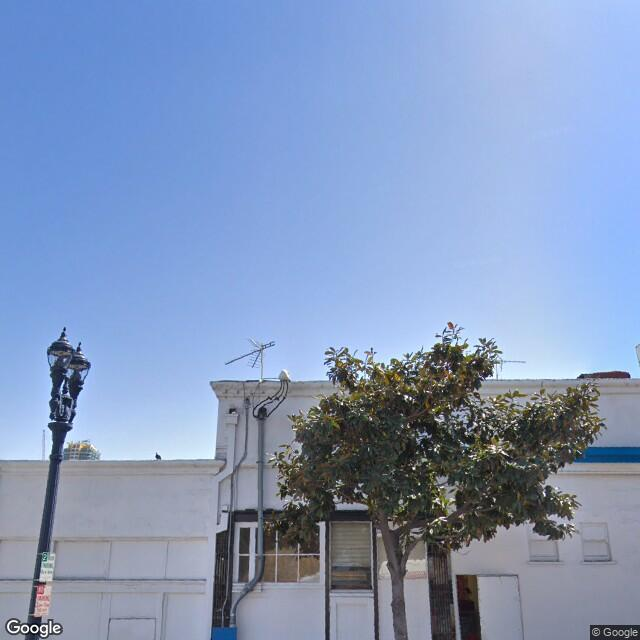light: (52, 342, 88, 389)
window: (327, 521, 372, 588), (269, 522, 315, 587)
